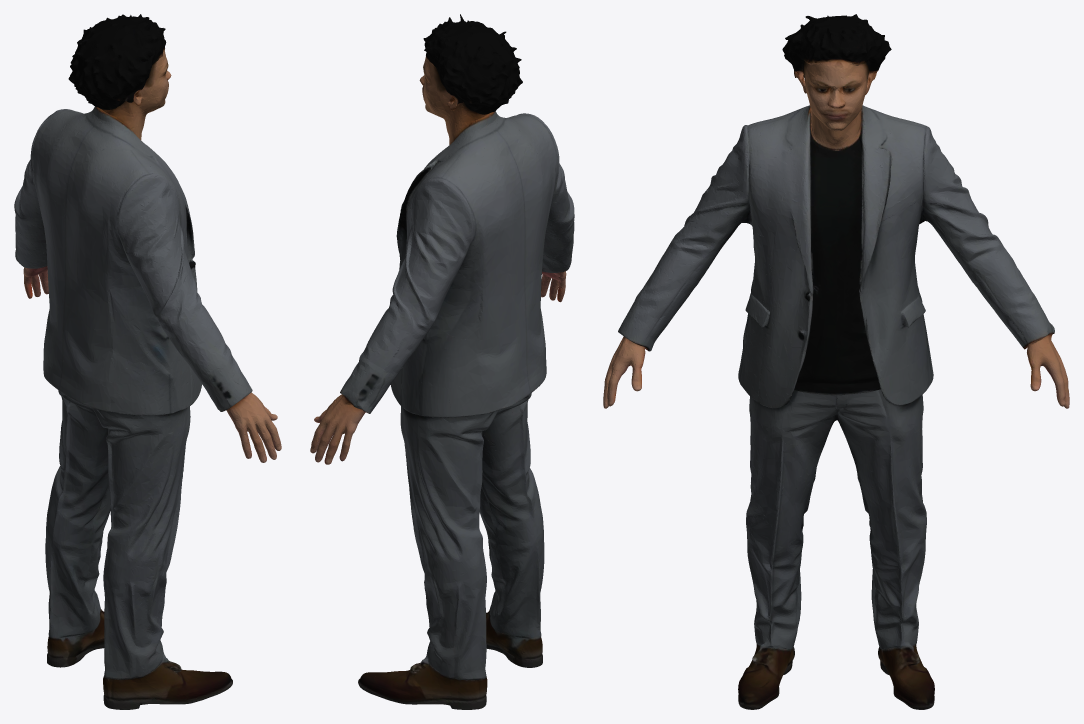
The model's file is me-opt.glb.
The picture shows the model from 3 angles, left to right: view 1: azimuth 30°, elevation 25°; view 2: azimuth 150°, elevation 25°; view 3: azimuth 270°, elevation 25°; orthographic projection. The views are drawn at different scales.
Parts seen in each view (by area): view 1: tripo_node_c367faf8-fd0b-459d-b9db-cfa831f703bb; view 2: tripo_node_c367faf8-fd0b-459d-b9db-cfa831f703bb; view 3: tripo_node_c367faf8-fd0b-459d-b9db-cfa831f703bb.
Part boxes in pixels (x1,y1,x2,y2): tripo_node_c367faf8-fd0b-459d-b9db-cfa831f703bb: [14, 14, 281, 709]; tripo_node_c367faf8-fd0b-459d-b9db-cfa831f703bb: [310, 14, 574, 709]; tripo_node_c367faf8-fd0b-459d-b9db-cfa831f703bb: [603, 14, 1069, 709].
Size of the model in its own units: 0.2075 by 1 by 0.6329.
Materials: 1 (1 with a texture image).
